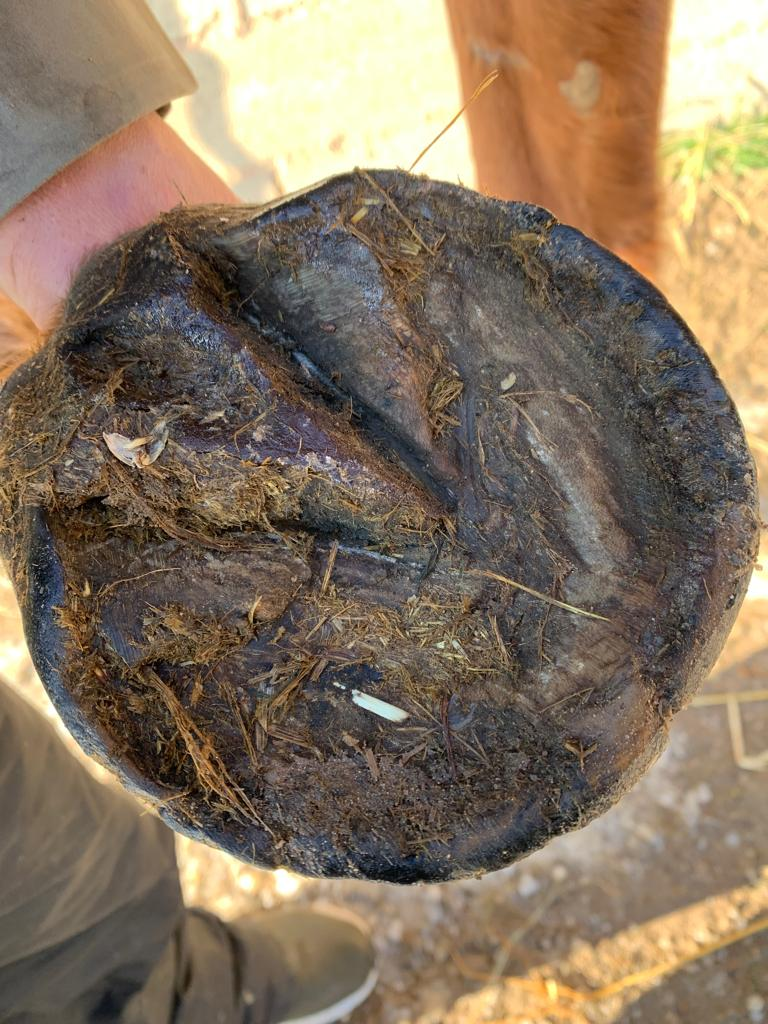horsesole: (20, 172, 759, 886)
